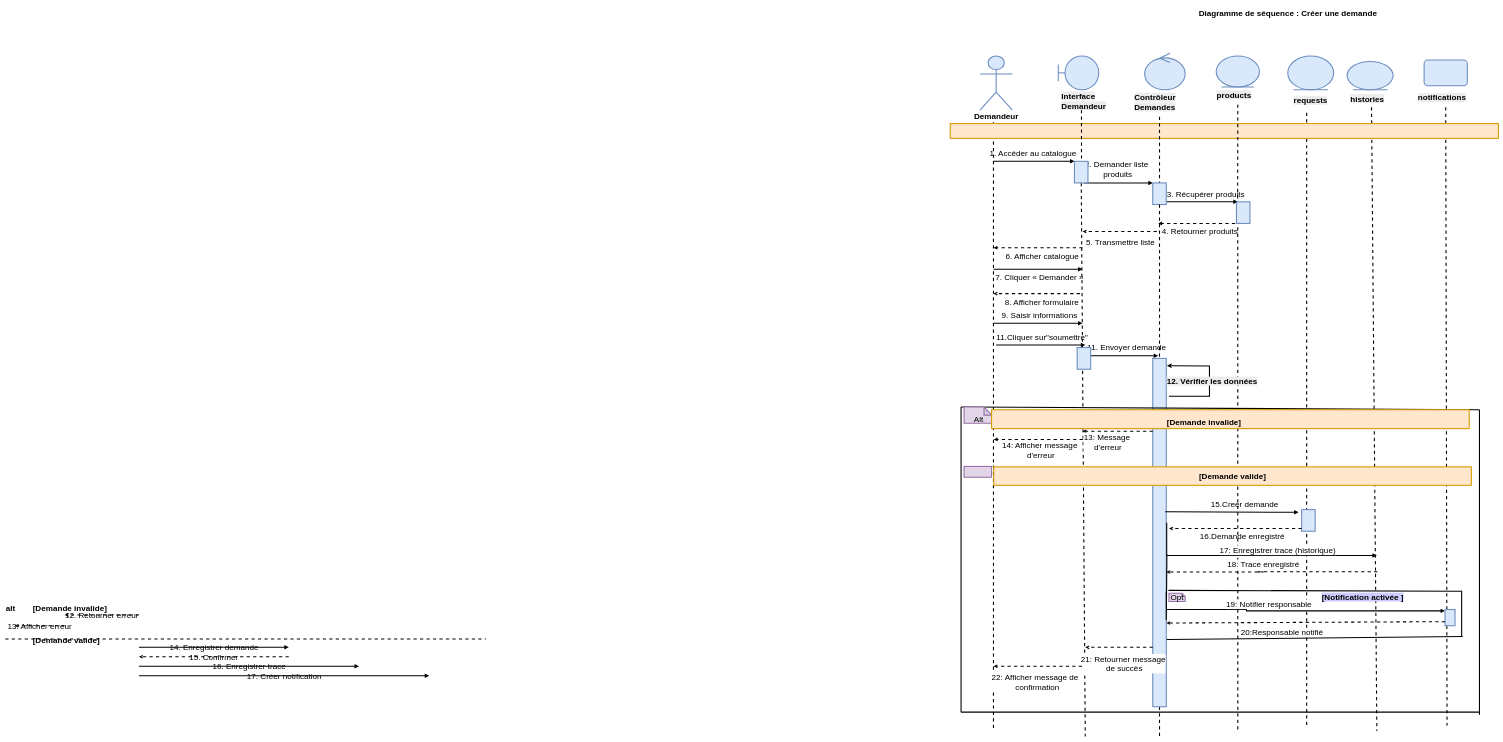
The diagram is 1503 pixels wide and 742 high, and some of its shapes have lost their labels. The shapes that lost their labels are listed below. From the top down, each one's box as (x1, y1, x2, y2) in pixels, then its label:
(950, 123, 1499, 139): ref : S’authentifier
(963, 466, 992, 478): Sinon
